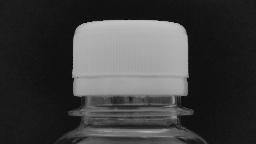Loose Cap: (62, 74, 200, 118)
